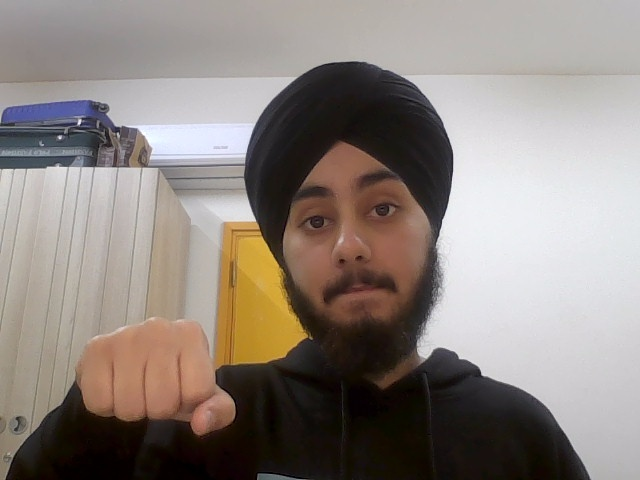Yes: (70, 314, 248, 441)
